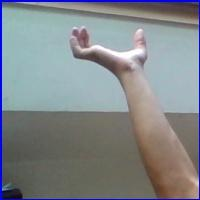space: (64, 24, 154, 79)
